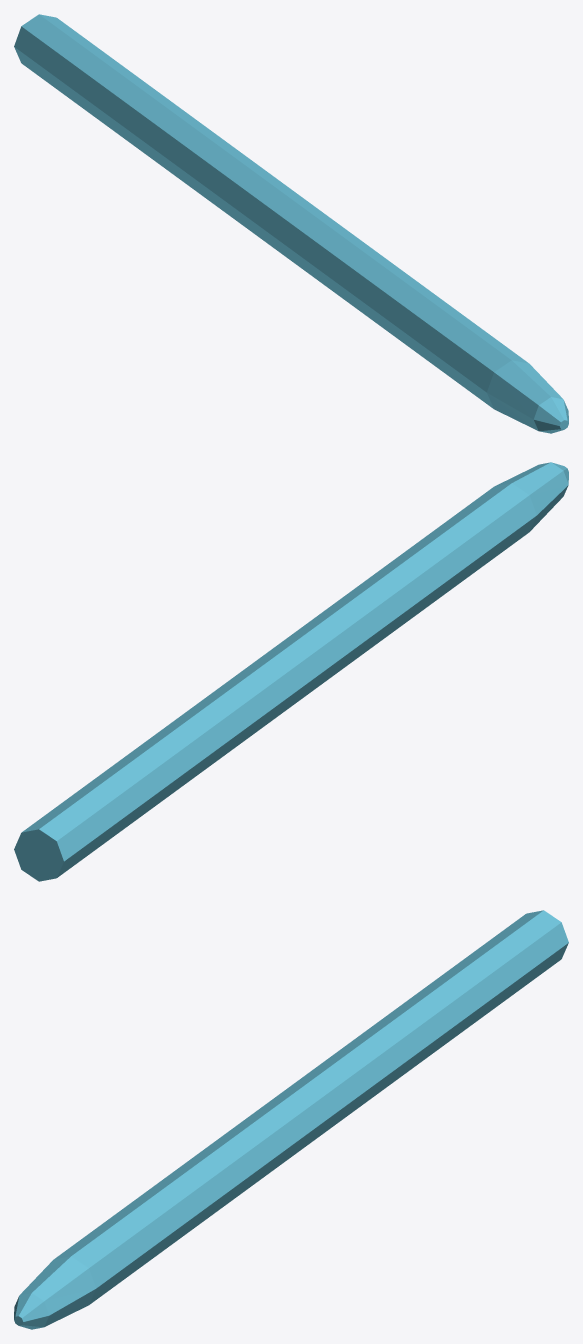
Rendered from blade-standard.lod.glb.
3 renders of one model, top to bottom at view 1: azimuth 30°, elevation 25°; view 2: azimuth 150°, elevation 25°; view 3: azimuth 330°, elevation 25°, orthographic.
Visible parts, largest first — view 1: m; view 2: m; view 3: m.
Part boxes in pixels (box(x1,y1,x2,y2)): m: box(14, 14, 568, 433); m: box(14, 462, 568, 881); m: box(14, 910, 568, 1329).
Size of the model in its own units: 0.0108 by 0.0108 by 0.196.
